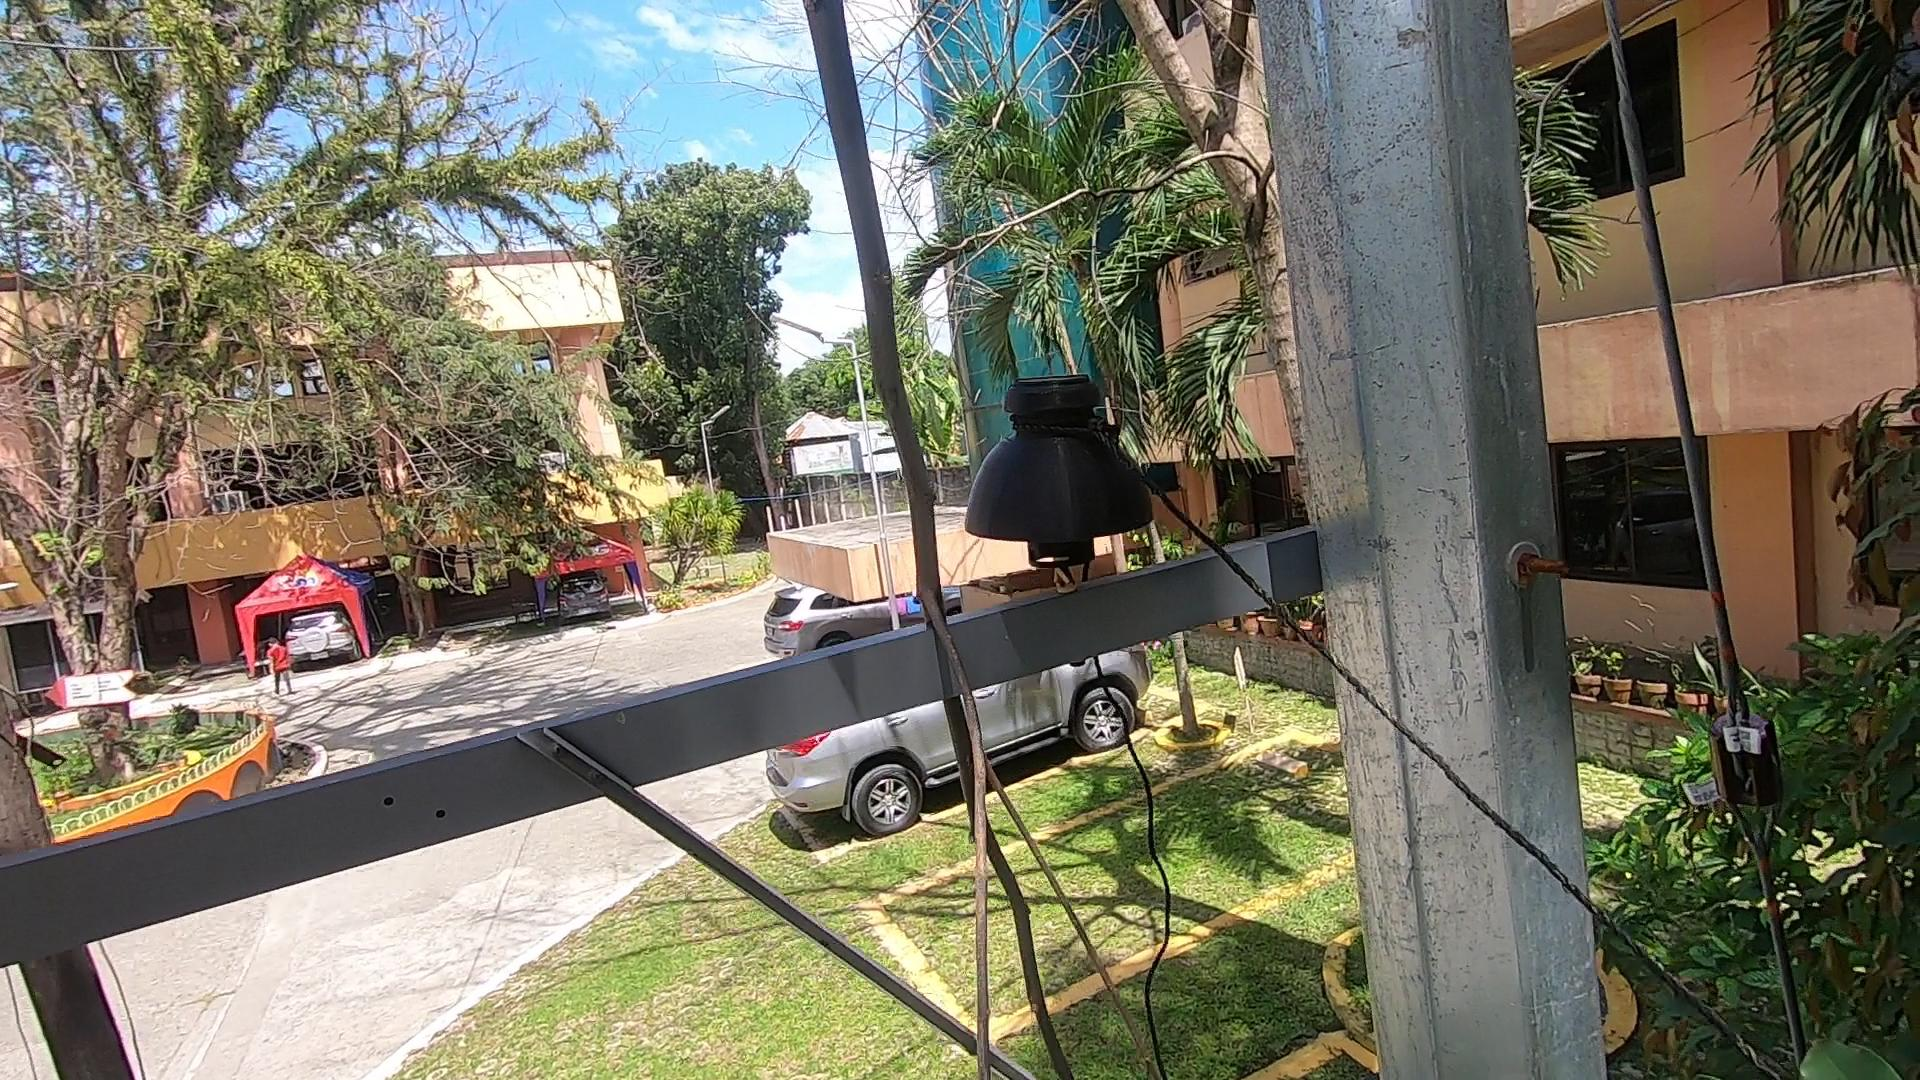tree branch: (752, 9, 1120, 1073)
